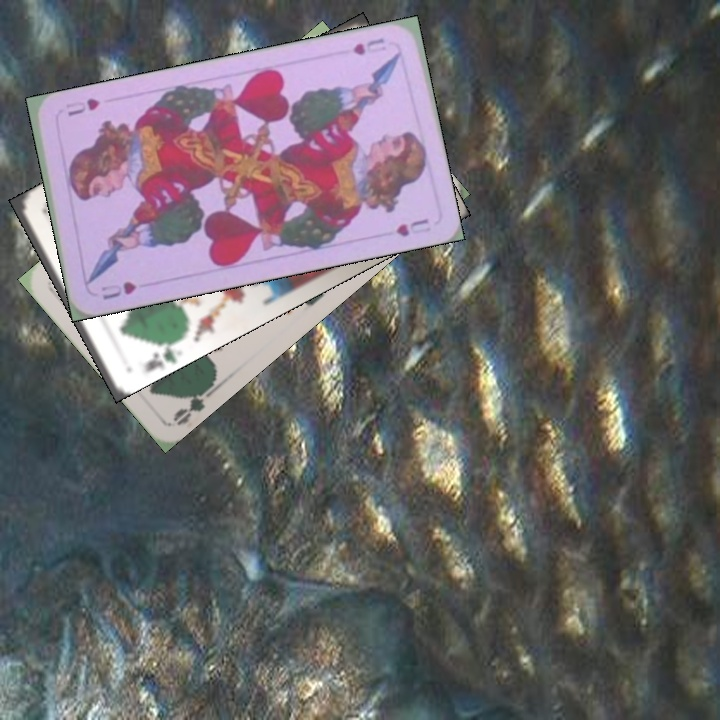GK: (140, 337, 180, 375)
GO: (169, 377, 220, 428)
HU: (97, 277, 139, 303), (348, 33, 389, 58)
